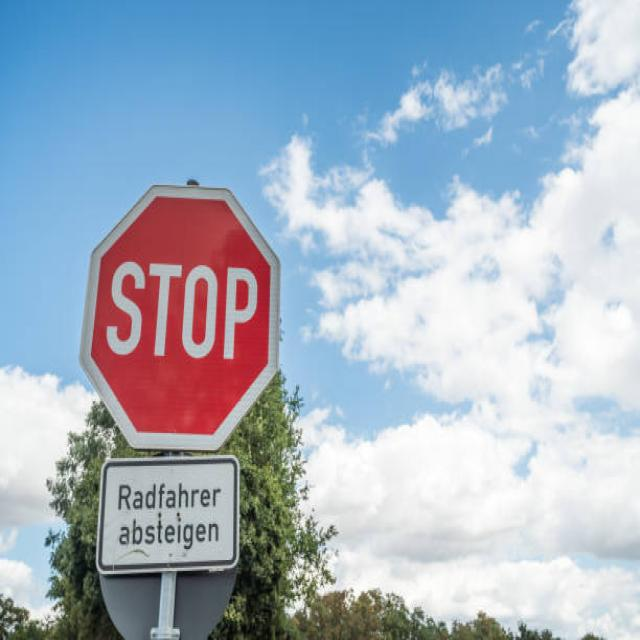stop: (74, 172, 289, 454)
